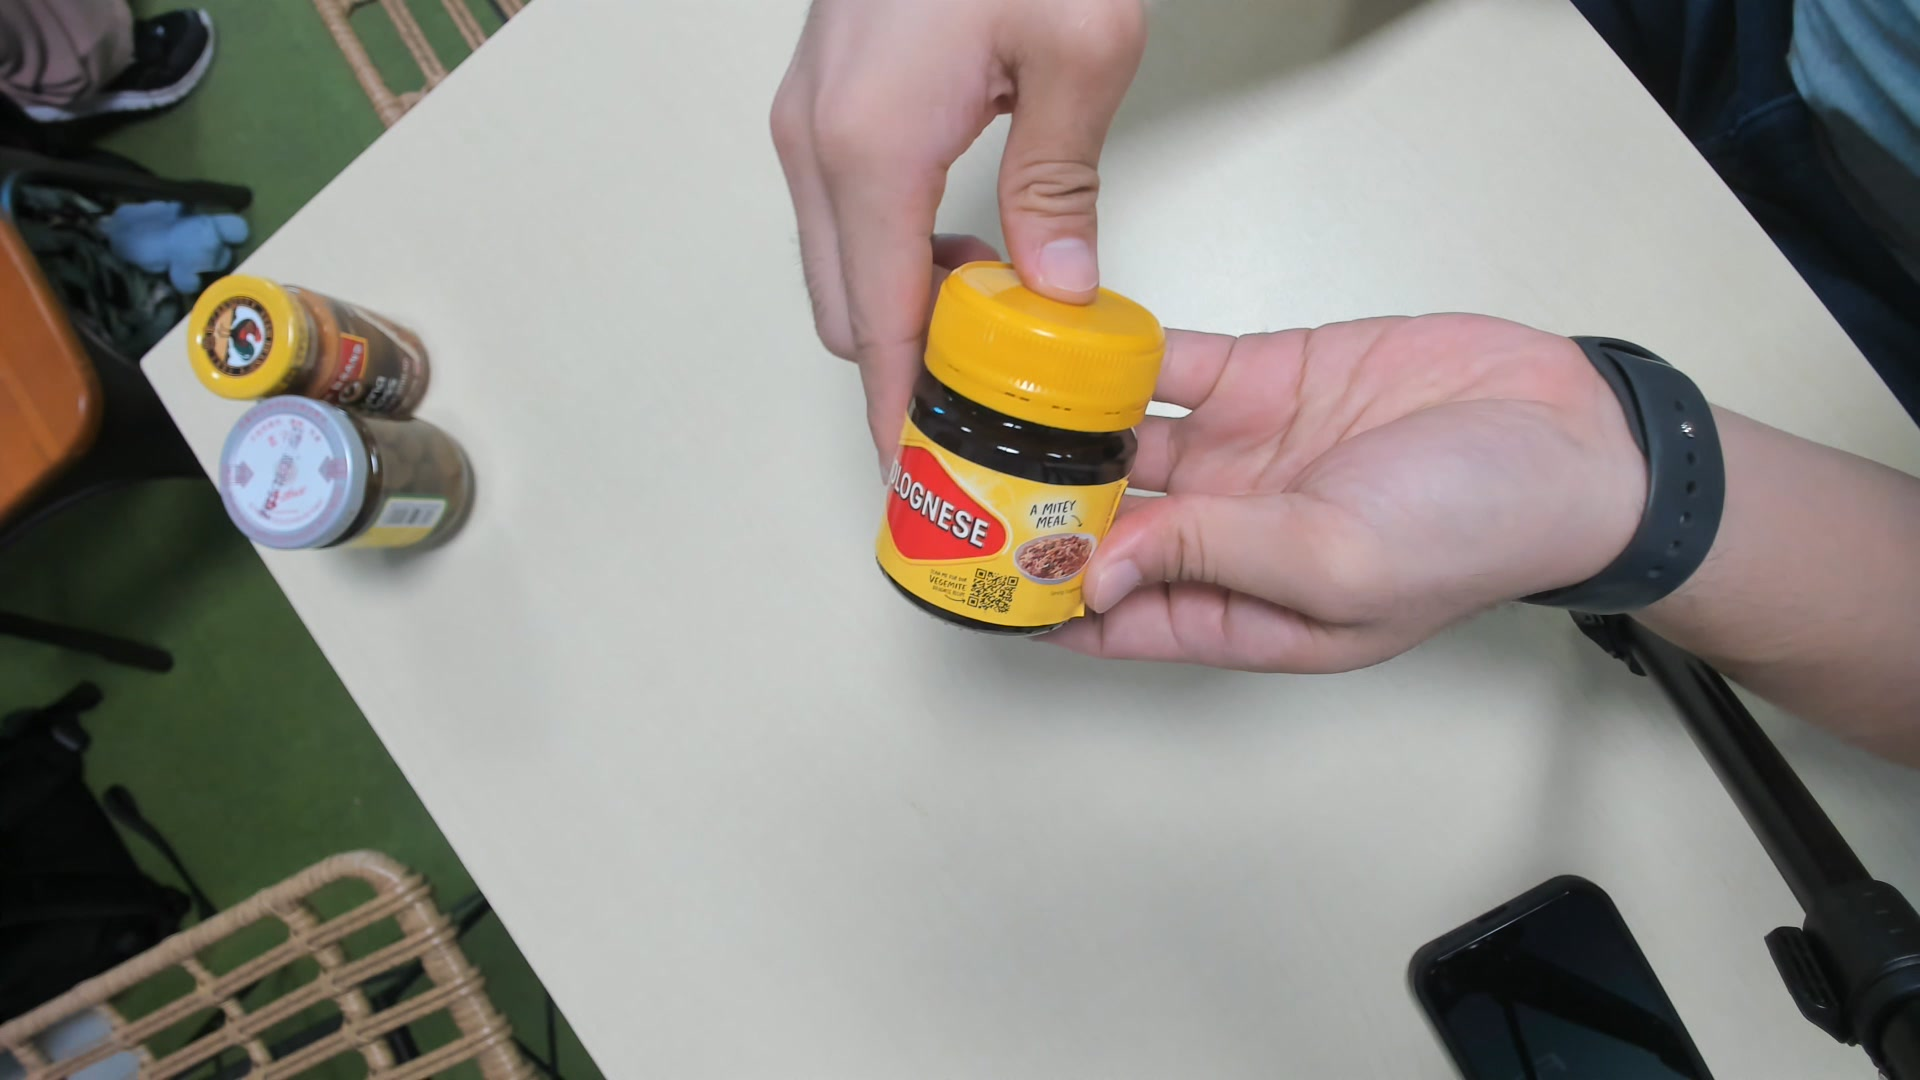OtherSauceDressing_200-299g_Halal_NonHealthy: (862, 262, 1163, 645)
